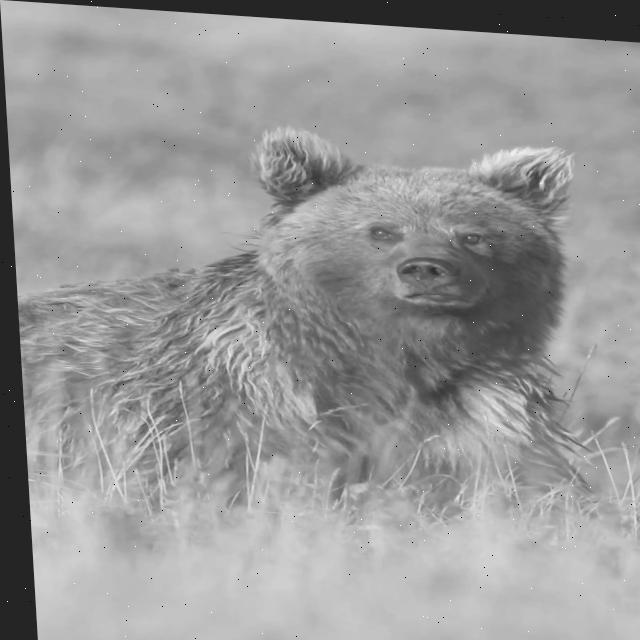Bear: (7, 107, 603, 551)
